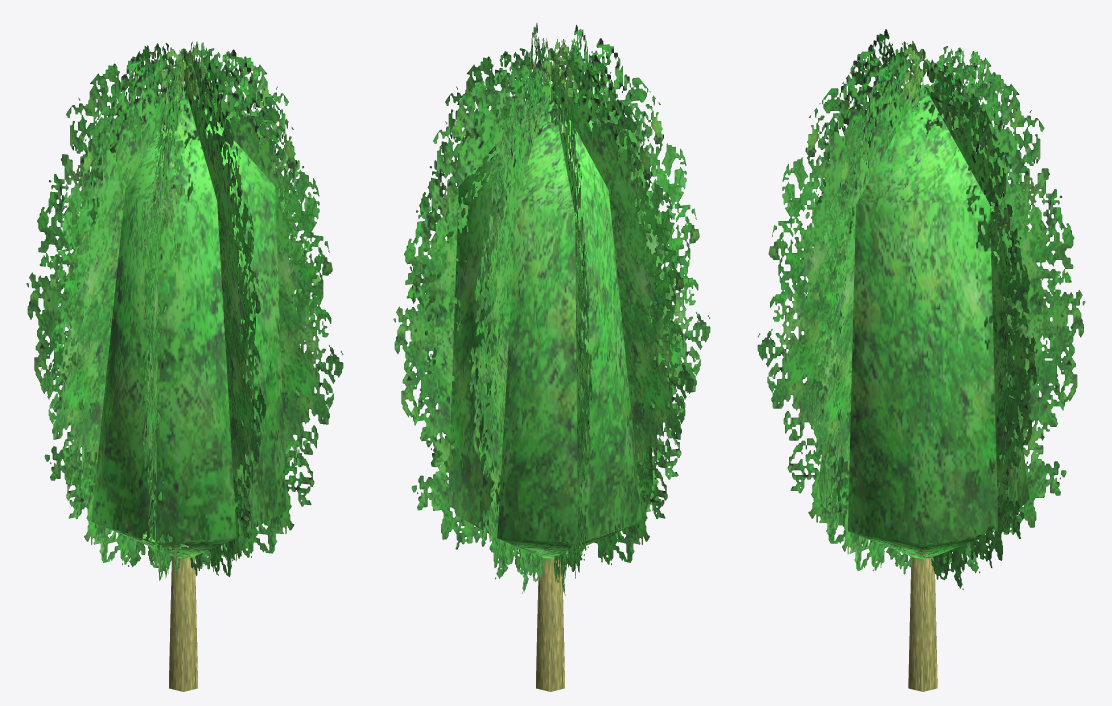
Rendered from SmallTree.fbx.
3 views of the same model, side by side, from view 1: azimuth 30°, elevation 25°; view 2: azimuth 150°, elevation 25°; view 3: azimuth 270°, elevation 25° (orthographic).
Parts seen in each view (by area): view 1: TreeB.063; view 2: TreeB.063; view 3: TreeB.063.
Part boxes in pixels (x1=…): TreeB.063: x1=26, y1=41, x2=343, y2=691; TreeB.063: x1=393, y1=23, x2=710, y2=691; TreeB.063: x1=757, y1=29, x2=1085, y2=691.
Size of the model in its own units: 51.27 by 105 by 51.27.
Materials: 1 (1 with a texture image).
